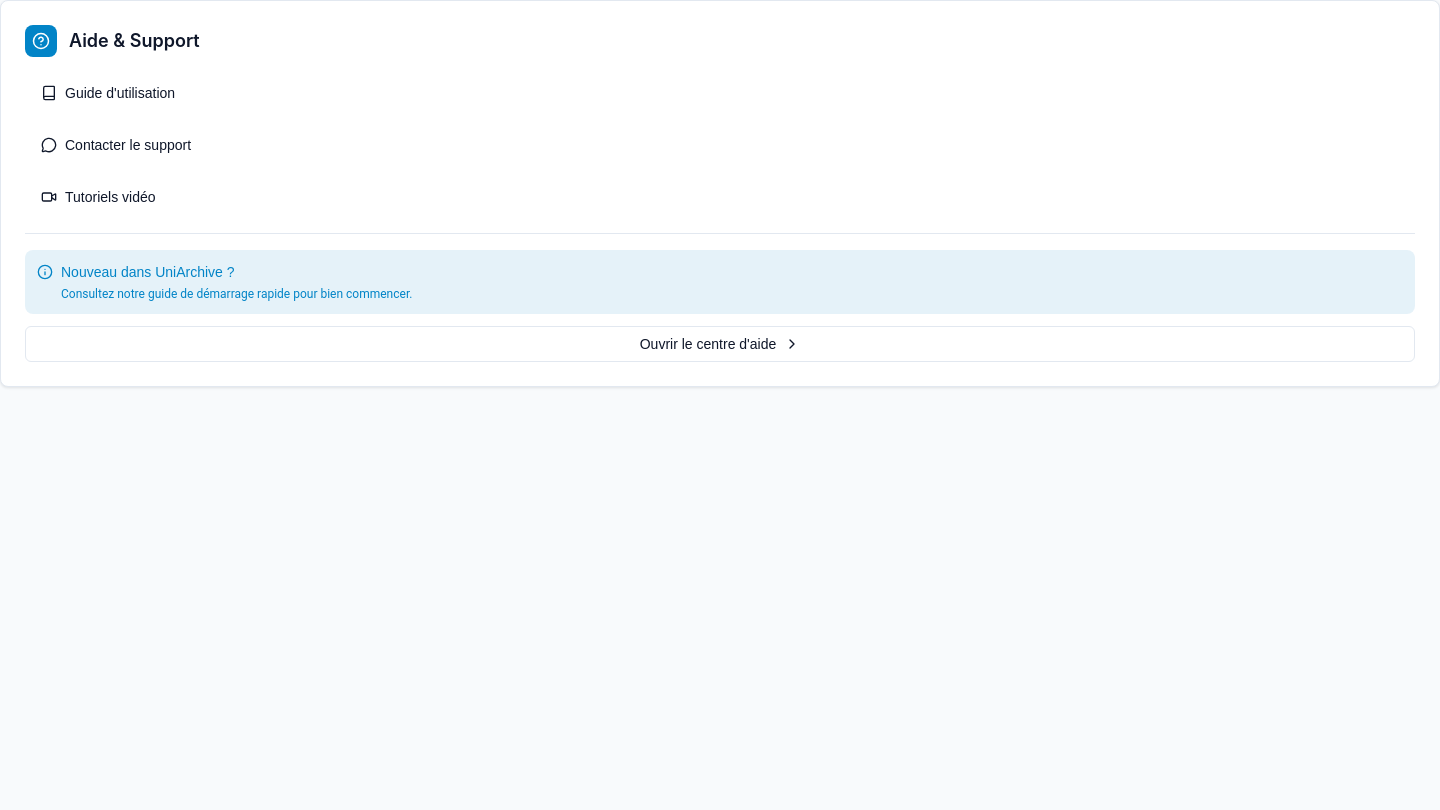
Test: Aide & Support (tableau de bord) › propose des tutoriels qui pointent vers les écrans concernés
Click the button "Tutoriels vidéo" at (110, 197), box [25,177,1415,217]
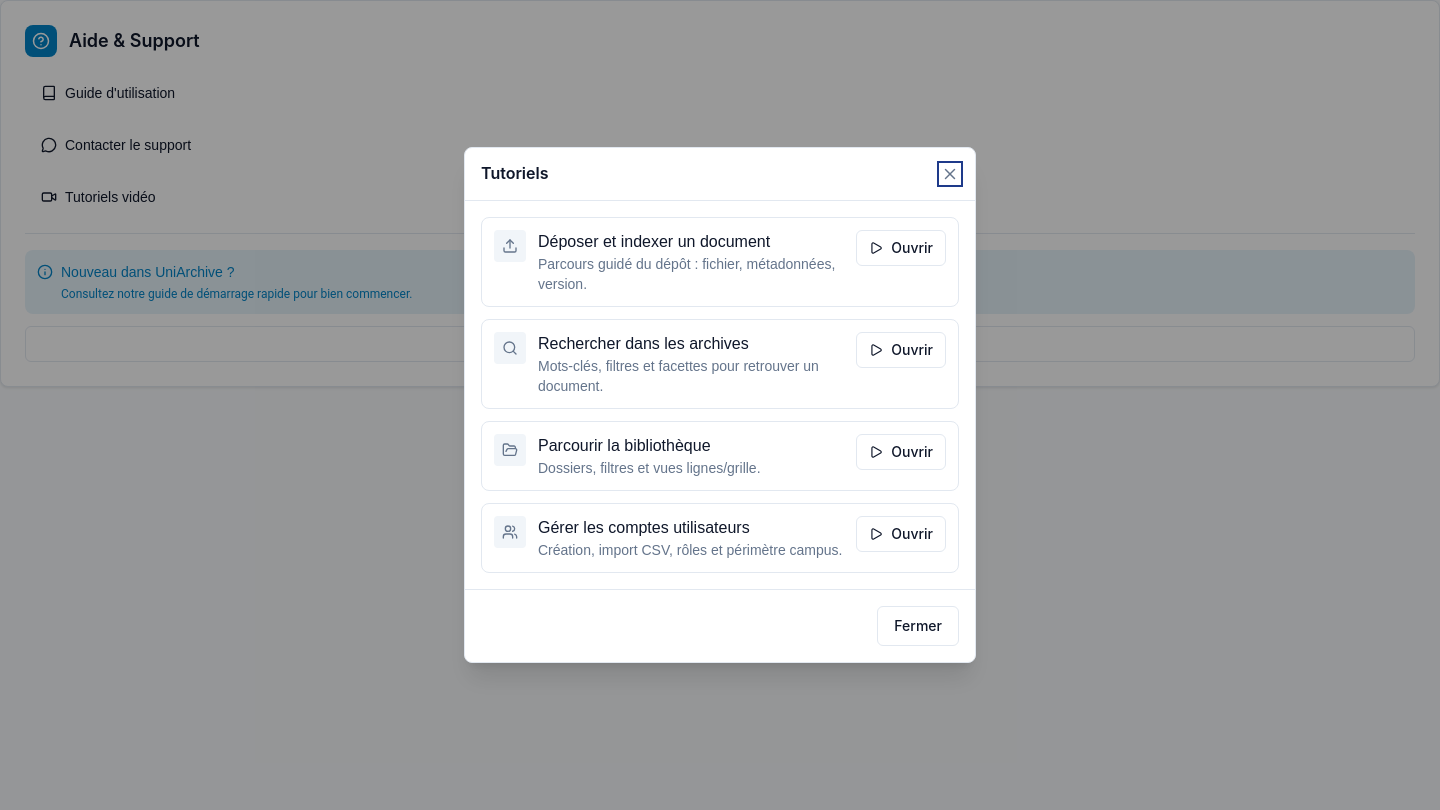
Check: the button with aria-label "Ouvrir le tutoriel « Déposer et indexer un document »" is shown, box [856,230,946,266]
